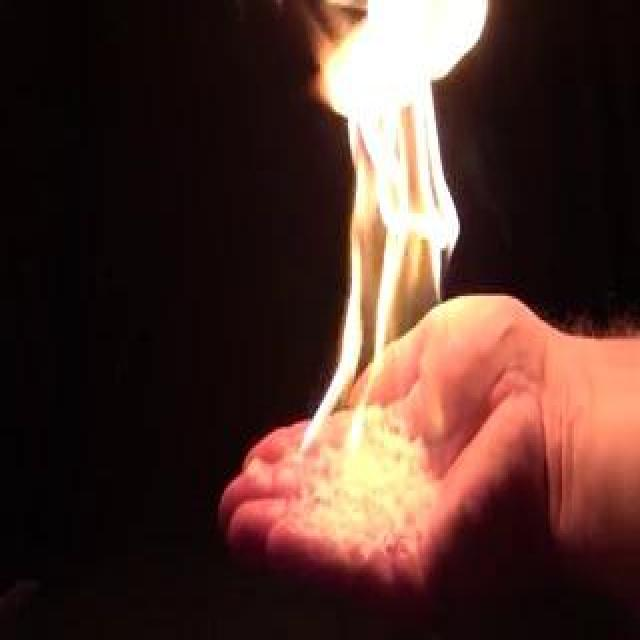Fire: (298, 3, 490, 488)
